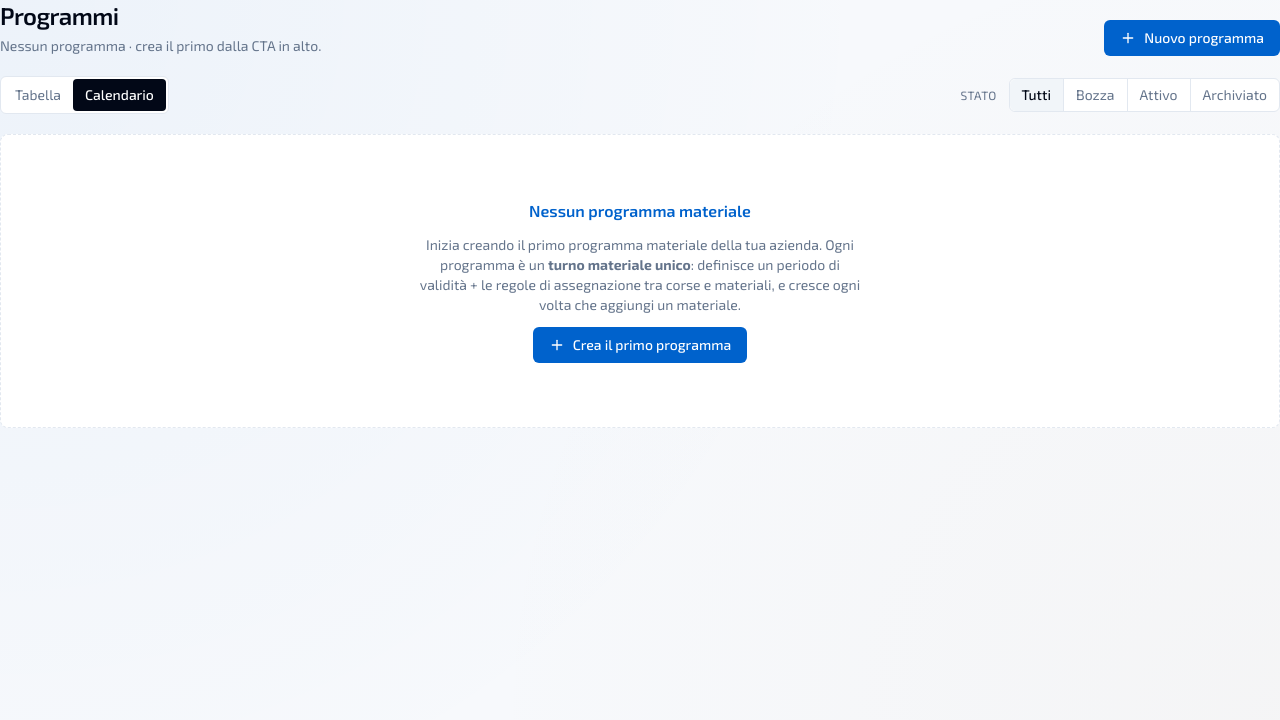
ProgrammiRoute › mostra empty state diverso quando ci sono filtri attivi
Expected: the heading "Nessun programma materiale" is shown, 529,199 -> 751,223
Note: Click sul pulsante segmented "Bozza" → applica il filtro stato.
Click the button "Bozza" at (1095, 95), box 1063,79 -> 1127,111
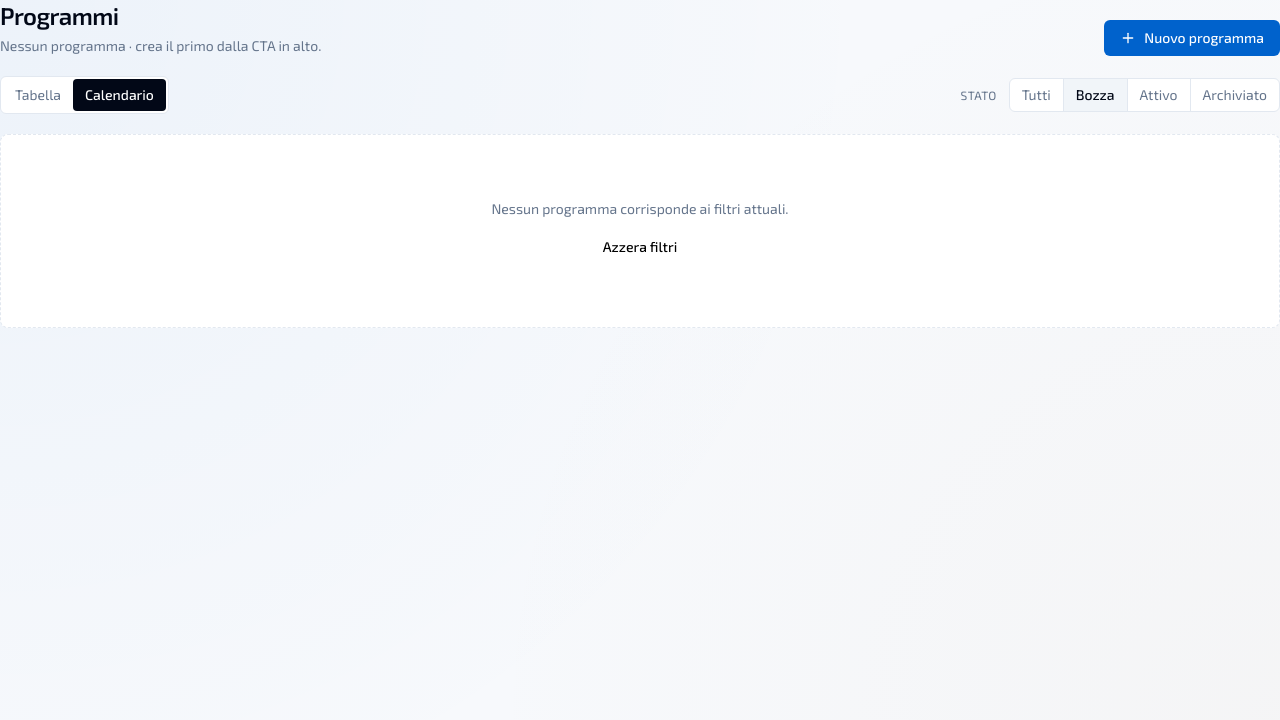
Now the text "Nessun programma corrisponde ai filtri attuali." is shown, box 491,199 -> 789,219
